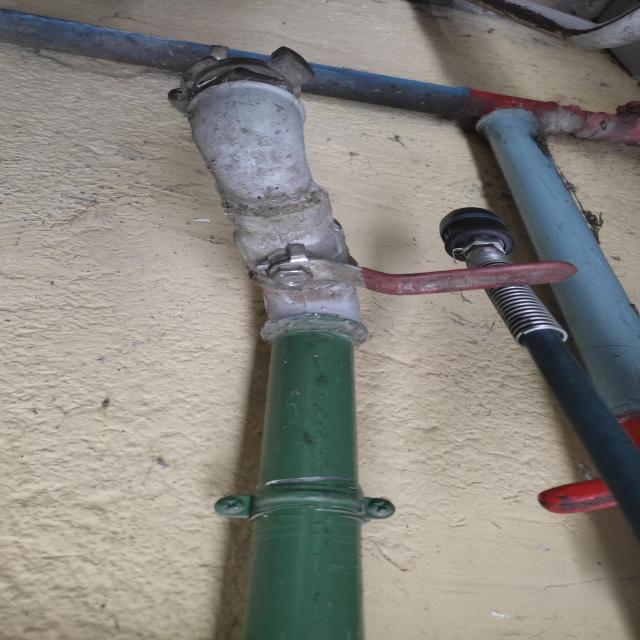closed_valve: (229, 225, 580, 315)
